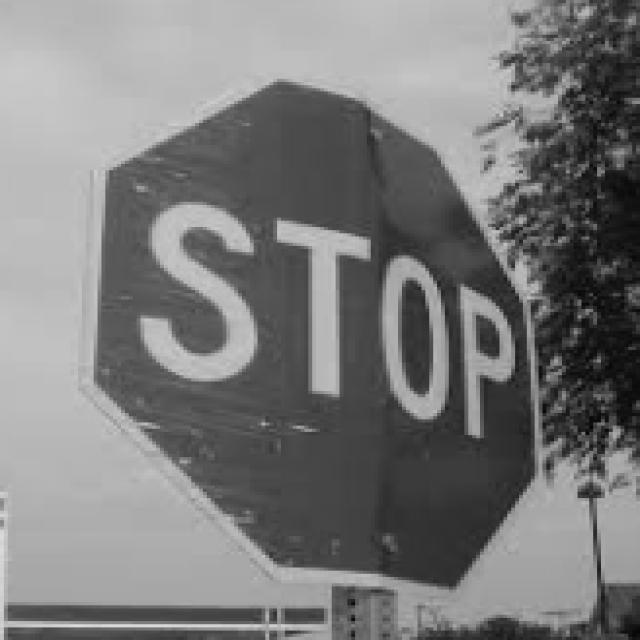Stop-signs: (83, 84, 544, 596)
